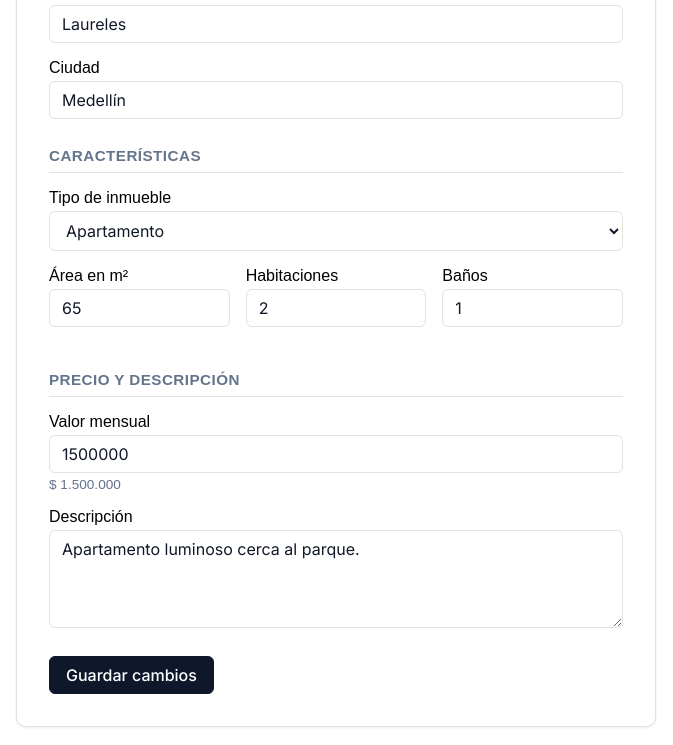
it: EditarInmueblePage — mejoras de UI (Red — ui-formulario-inmueble task 4.1) › Vista previa de moneda del valor mensual › shows a formatted preview near the input while keeping its raw numeric value intact
The width and height of the screenshot is (673, 745).
(page scrolled)
Replace the text in the number field labelled "Valor mensual" with "1800000": (336, 454) [49,436,623,474]
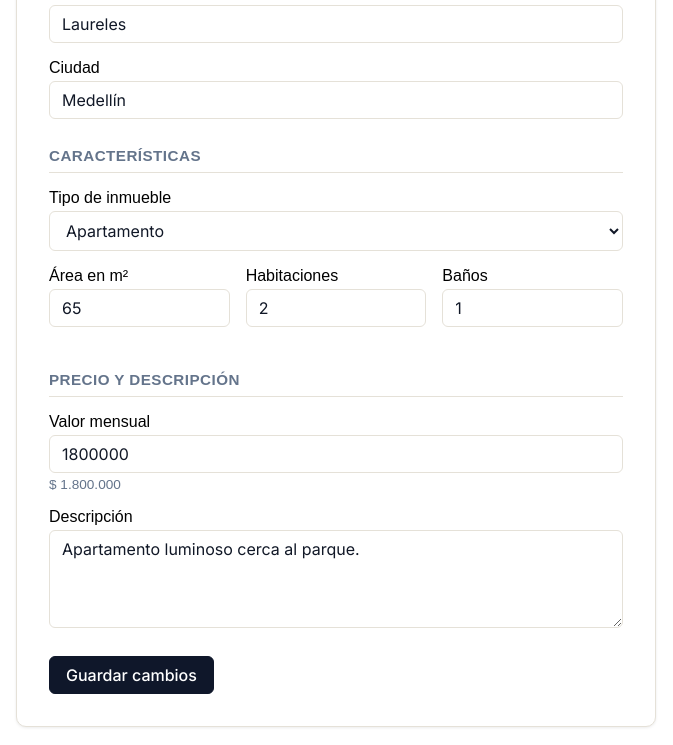
Check: the text "$ 1.800.000" is shown, box [49,478,121,492]
